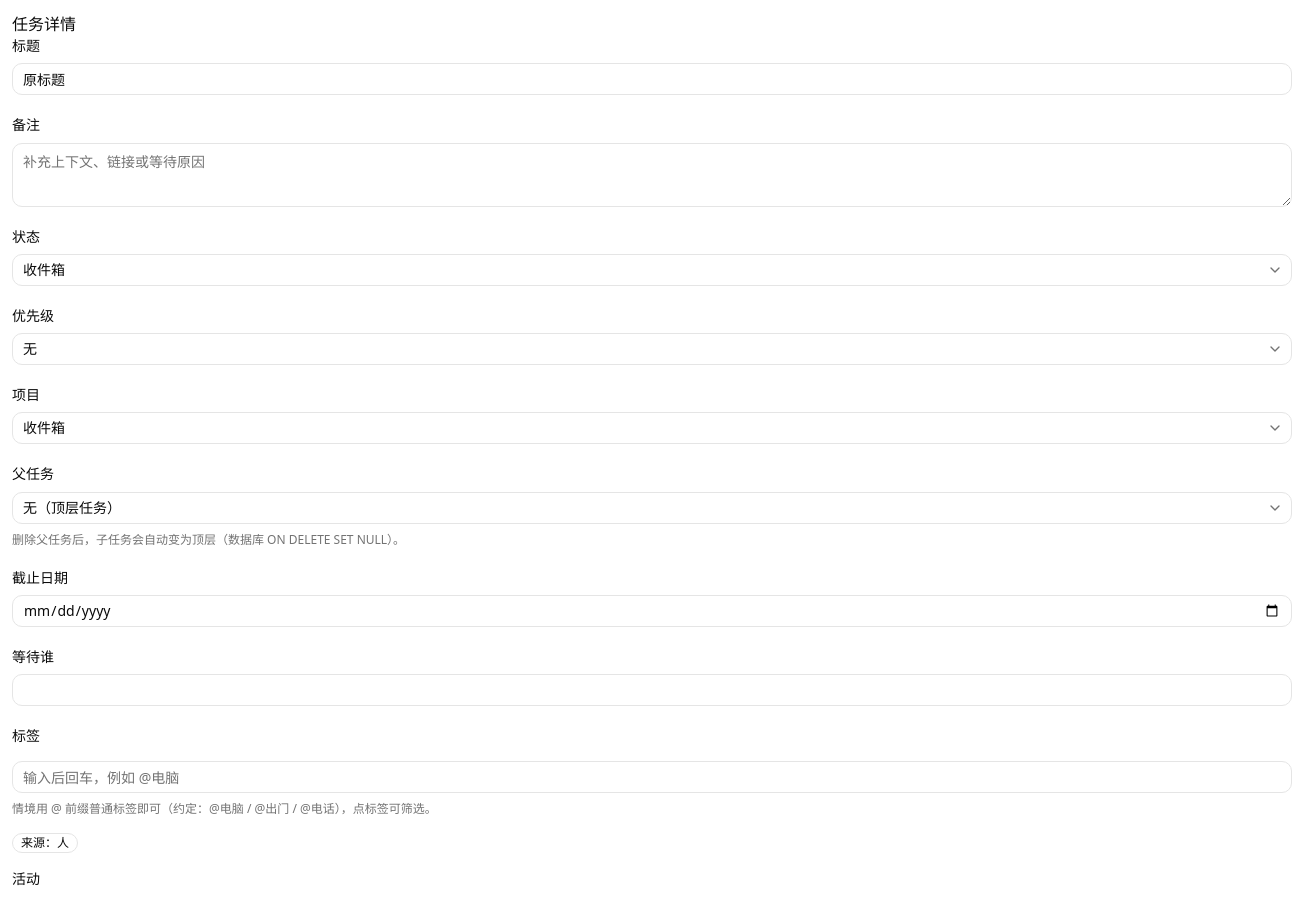
Test: task detail autosave (#115) › 标题清空期间状态显示「标题未保存」（不是「已保存」），失焦恢复后回到正常
Type "先存一下" into the text box labelled "备注". click: (652, 174)
box: x1=12 y1=142 x2=1292 y2=206
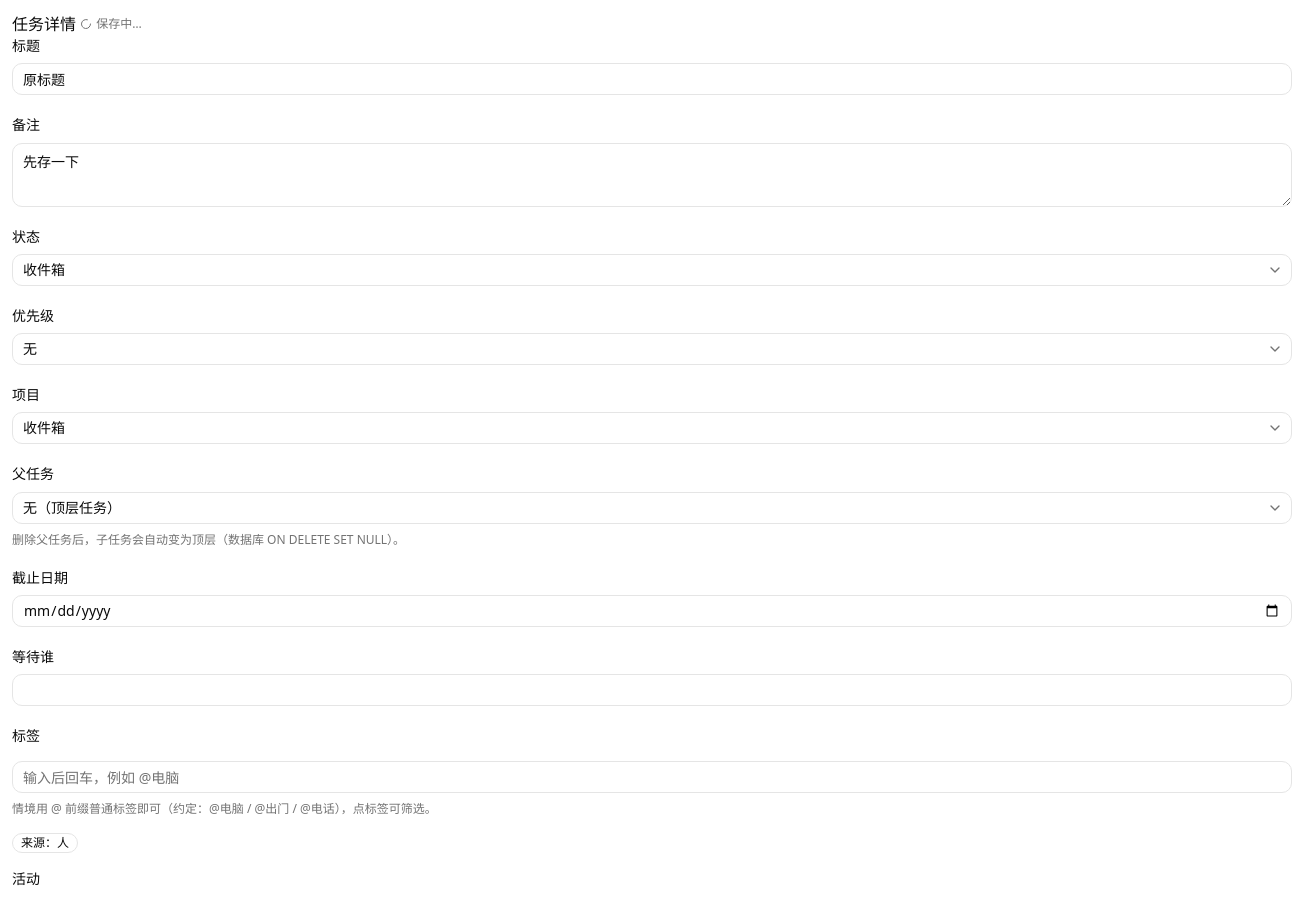
Leave the text box labelled "备注", box x1=12 y1=142 x2=1292 y2=206
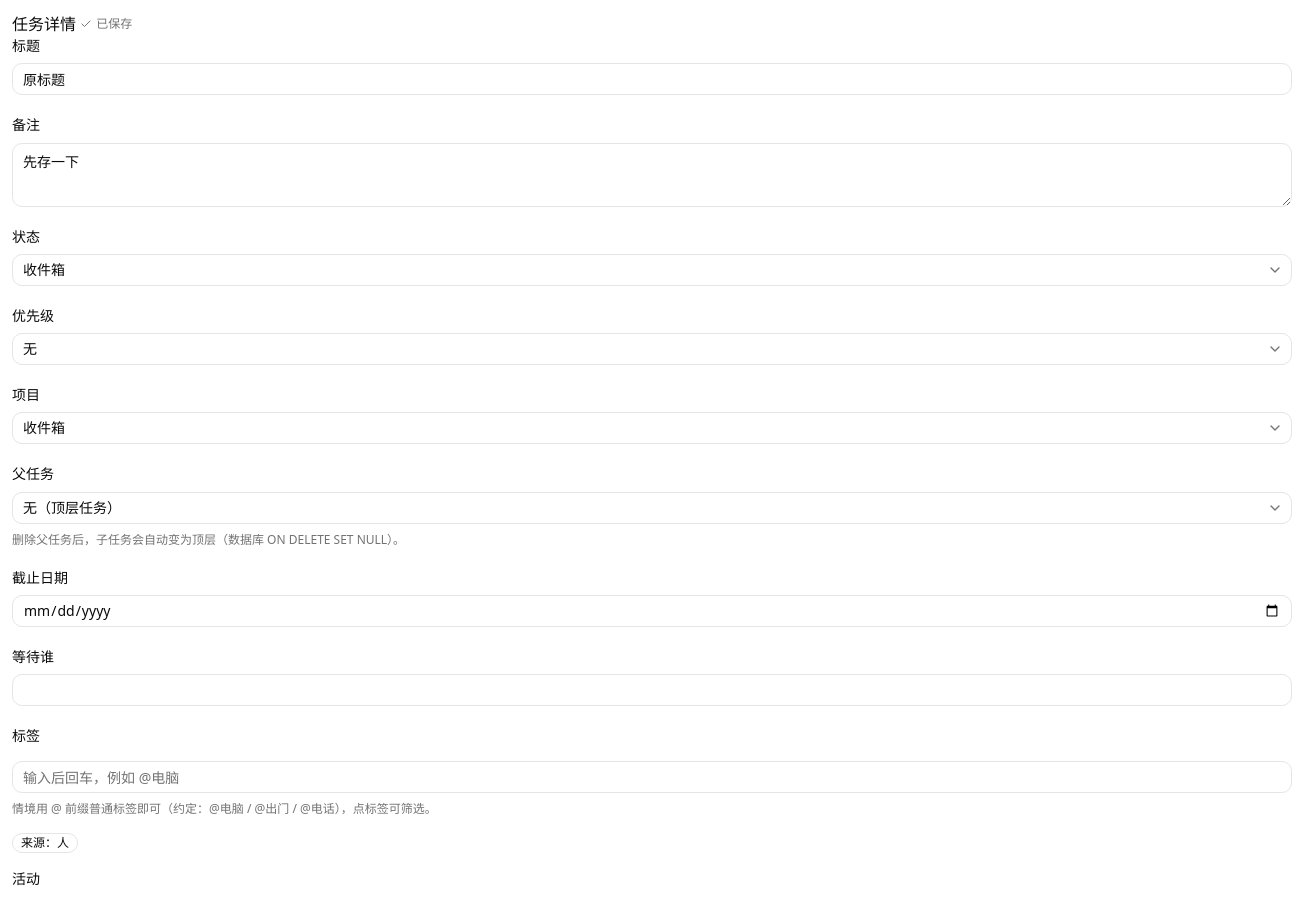
Check: the text "已保存" is shown, box x1=96 y1=16 x2=132 y2=32
Clear the field labelled "标题". click: (652, 79)
box: x1=12 y1=63 x2=1292 y2=95
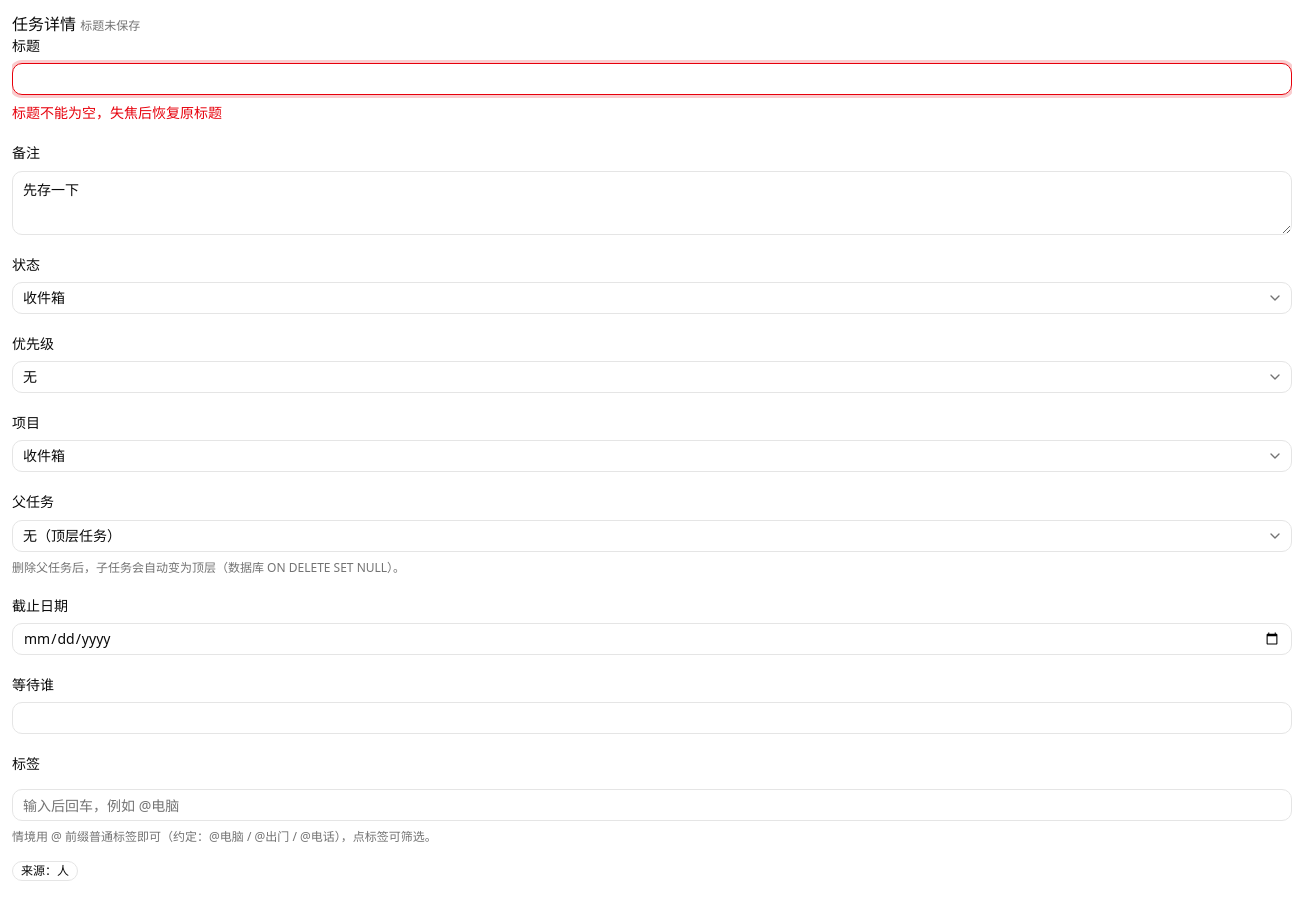
Check: the text "标题未保存" is shown, box x1=80 y1=18 x2=140 y2=34
Leave the field labelled "标题", box x1=12 y1=63 x2=1292 y2=95
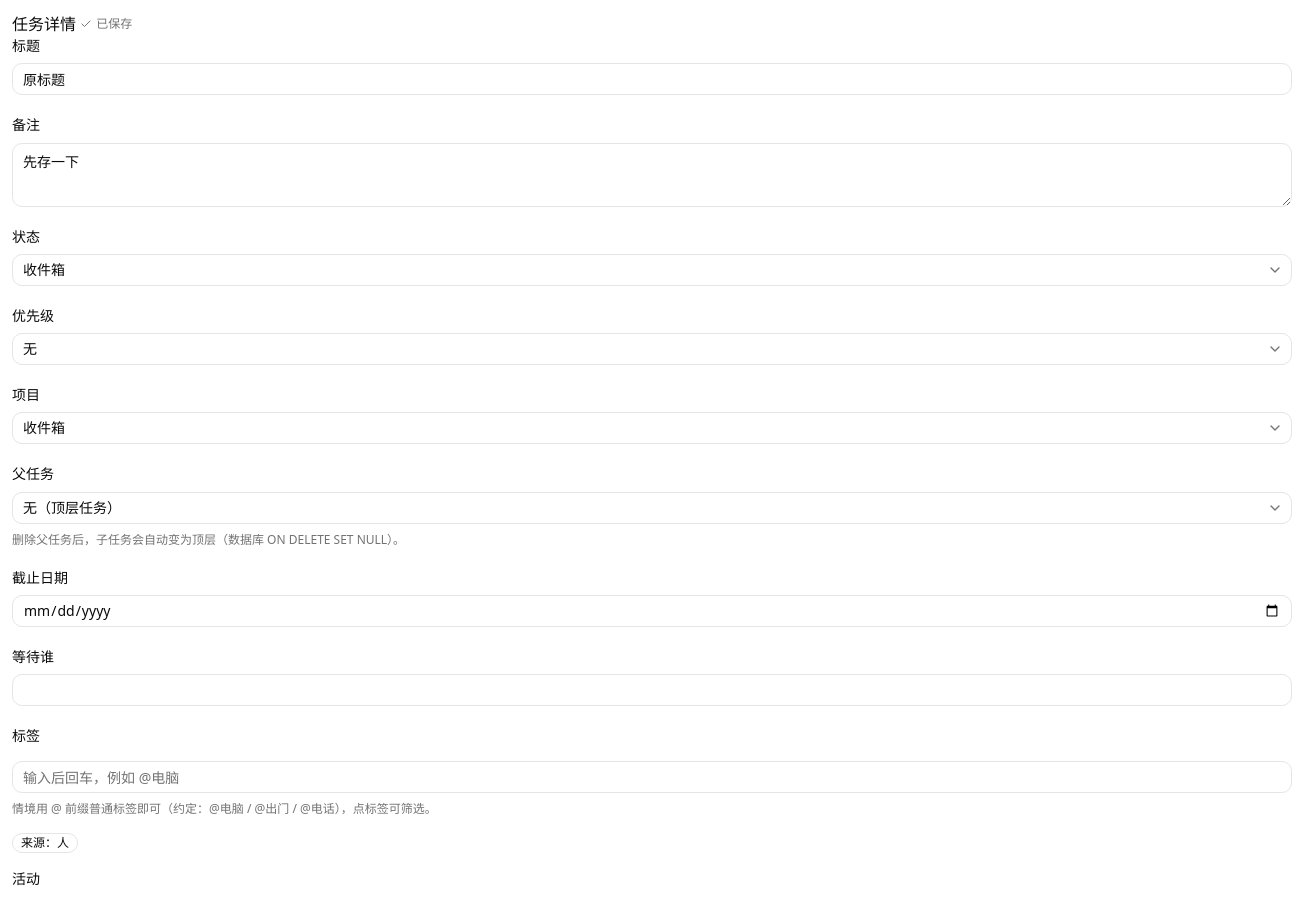
Check: the field labelled "标题" holds "原标题", box x1=12 y1=63 x2=1292 y2=95
Check: the text "已保存" is shown, box x1=96 y1=16 x2=132 y2=32
